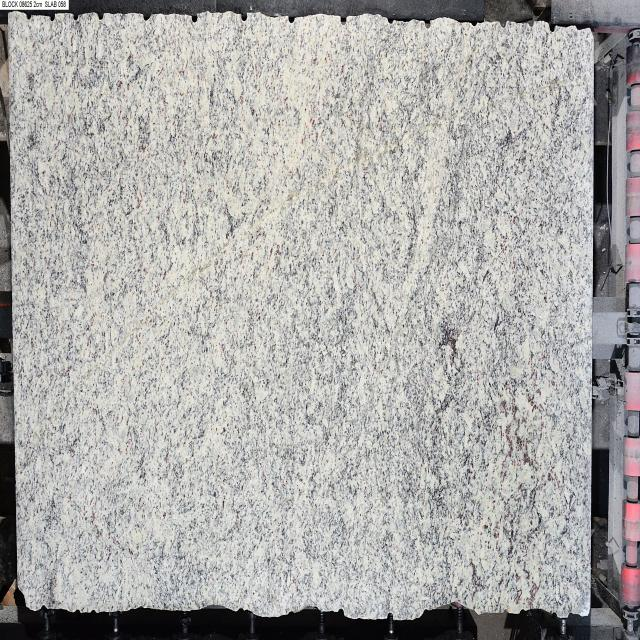chapa: (9, 15, 592, 620)
